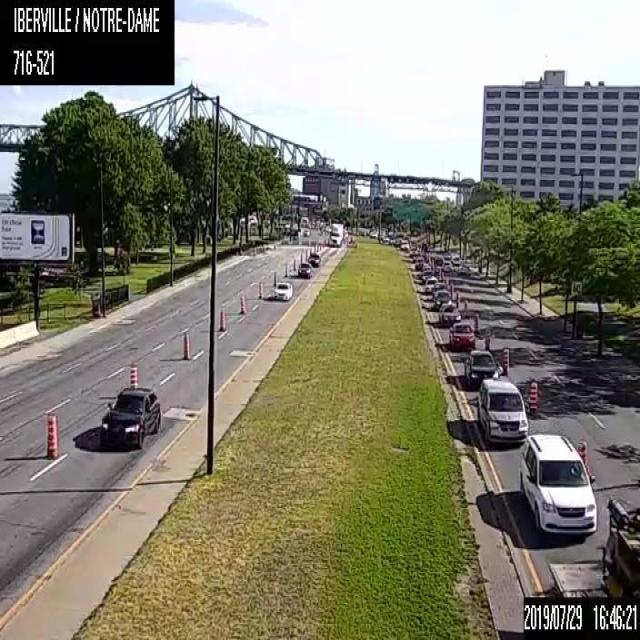construction: (45, 411, 57, 457), (577, 442, 592, 478), (528, 380, 538, 415), (180, 328, 190, 360), (501, 345, 508, 376), (129, 362, 137, 386), (217, 306, 224, 331), (473, 312, 479, 333), (239, 295, 246, 313), (485, 328, 490, 349), (257, 280, 263, 297), (449, 282, 454, 300), (463, 298, 467, 318), (272, 269, 276, 287), (455, 290, 459, 307), (444, 276, 448, 289), (437, 266, 440, 281), (292, 256, 295, 269), (284, 264, 287, 276), (304, 248, 307, 259), (299, 252, 302, 261), (431, 260, 434, 268), (441, 270, 443, 281), (316, 243, 318, 251), (313, 245, 315, 252), (309, 247, 311, 252)
vehicle: (519, 433, 596, 533), (594, 497, 639, 596), (99, 382, 161, 447), (477, 377, 528, 444), (464, 349, 498, 386), (448, 321, 475, 349), (438, 302, 460, 326), (272, 278, 292, 298), (433, 290, 451, 310), (327, 222, 342, 246), (296, 262, 312, 277), (424, 277, 438, 294), (307, 252, 320, 267), (421, 269, 432, 282), (414, 256, 424, 270), (399, 239, 408, 249)
